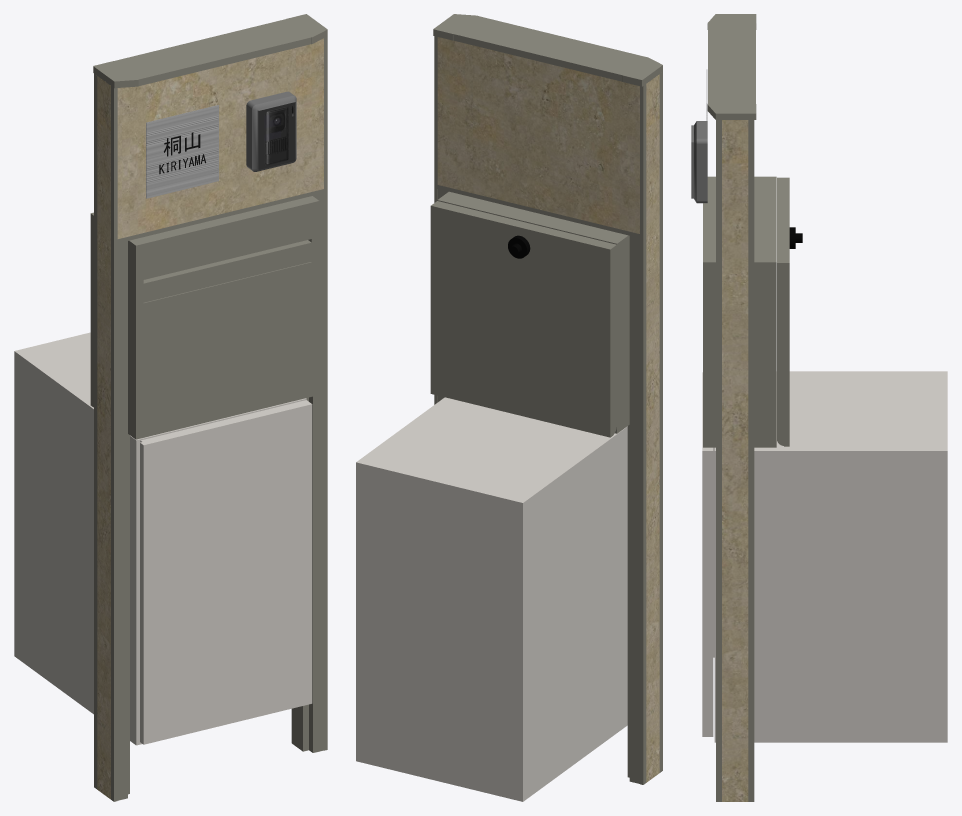
File: eabkinoumonchu-yoko-debox_travertine.fbx
The picture shows the model from 3 angles, left to right: view 1: azimuth 30°, elevation 25°; view 2: azimuth 150°, elevation 25°; view 3: azimuth 270°, elevation 25°; orthographic projection. The views are drawn at different scales.
Visible parts, largest first — view 1: eabkinoumonchu-yoko-debox_travertine.005; view 2: eabkinoumonchu-yoko-debox_travertine.005; view 3: eabkinoumonchu-yoko-debox_travertine.005.
Boxes of the visible parts, x1,y1,x2,y2 form: eabkinoumonchu-yoko-debox_travertine.005: (14, 14, 327, 801); eabkinoumonchu-yoko-debox_travertine.005: (356, 14, 662, 801); eabkinoumonchu-yoko-debox_travertine.005: (691, 14, 947, 801).
Size of the model in its own units: 43.2 by 139 by 47.06.
9 materials, 5 textured.
